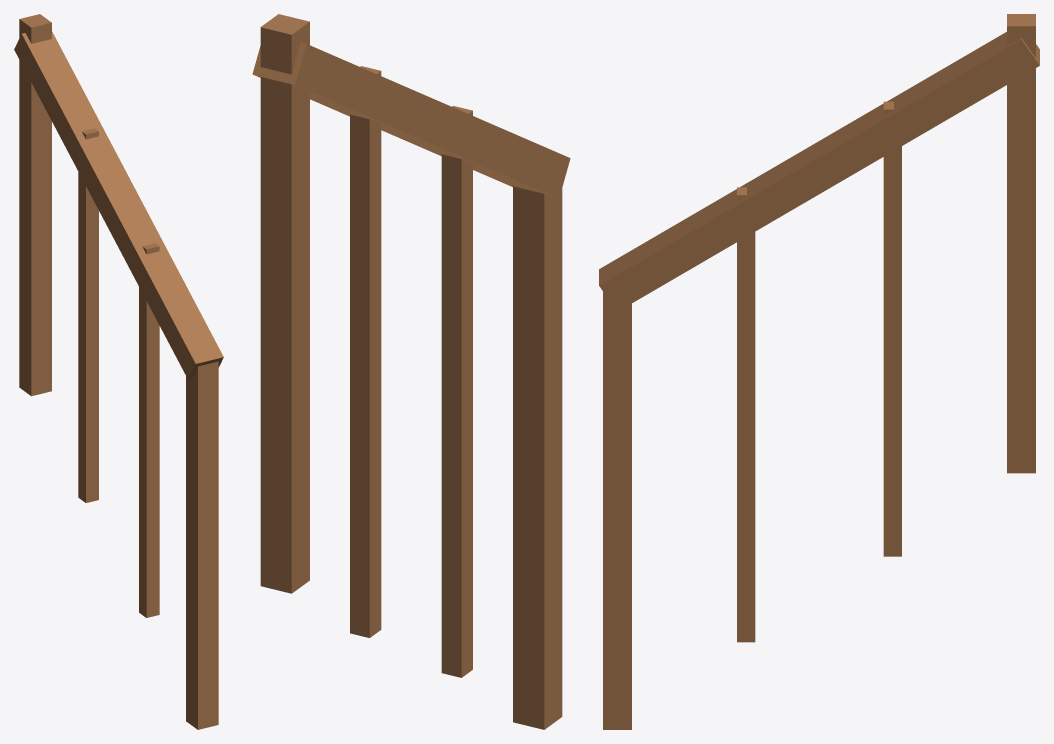
Rendered from res_rail_slope.glb.
3 views of the same model, side by side, from view 1: azimuth 30°, elevation 25°; view 2: azimuth 150°, elevation 25°; view 3: azimuth 270°, elevation 25° (orthographic). The views are drawn at different scales.
Parts seen in each view (by area): view 1: res_rail_slope; view 2: res_rail_slope; view 3: res_rail_slope.
Boxes of the visible parts, x1=… form: res_rail_slope: x1=14, y1=14, x2=223, y2=729; res_rail_slope: x1=252, y1=14, x2=570, y2=729; res_rail_slope: x1=599, y1=14, x2=1039, y2=729.
Bounding box in the file's own units: 0.075 × 1.48 × 0.84.
